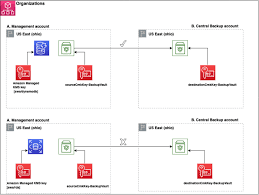organizations: (1, 1, 14, 16)
rds: (28, 139, 43, 154)
